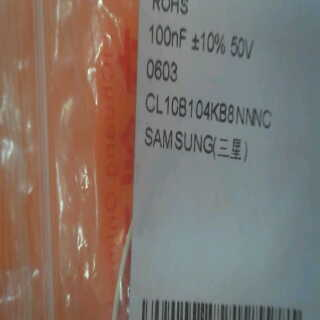100nF: (141, 18, 196, 57)
